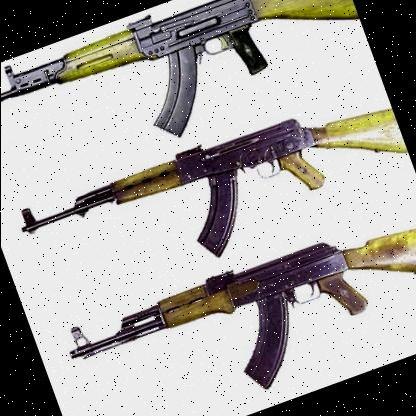rifle: (7, 58, 416, 314), (55, 176, 416, 416), (0, 0, 381, 209)
